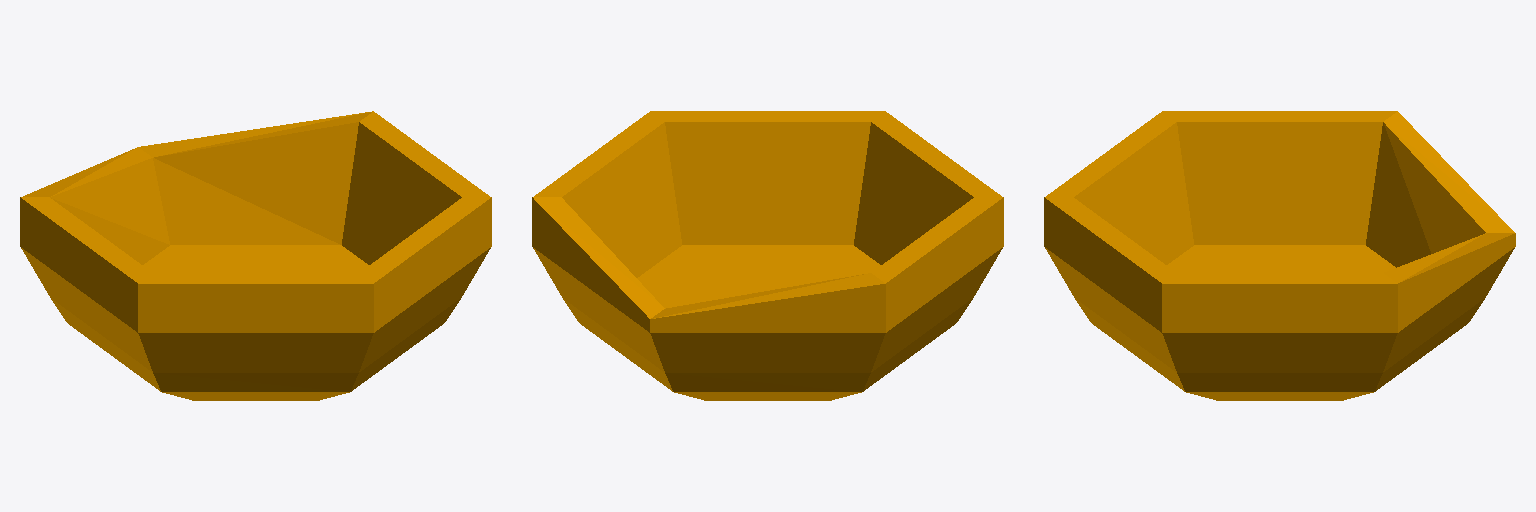
URDF robot description (smallbowl):
<?xml version="1.0"?>
<robot name="smallbowl">
  <link name="smallbowl">
    <inertial>
        <origin rpy="0 0 0" xyz="0 0 0"/>
        <mass value="0.05"/>
        <inertia ixx="0.5e-3" ixy="0" ixz="0" iyy="0.5e-3" iyz="0" izz="0.9e-3"/>
    </inertial>
    <visual>
      <geometry>
        <mesh filename="smallBowl.obj"/>
      </geometry>
    </visual>
    <collision>
      <geometry>
        <mesh filename="smallBowlCollider.obj"/>
      </geometry>
      <surface>
           <bounce restitution_coefficient = "0.01"/>
      </surface>
    </collision>
  </link>
</robot>

--- Facts derived from the render (not from the file) ---
Views: 3 orthographic renders of the robot side by side, from view 1: azimuth 30°, elevation 25°; view 2: azimuth 150°, elevation 25°; view 3: azimuth 270°, elevation 25°.
Model smallbowl with 1 links and 0 joints (none), rooted at smallbowl, posed all joints at 0.
Visible links, largest first — view 1: smallbowl; view 2: smallbowl; view 3: smallbowl.
Boxes of the visible links, <box> form: smallbowl: <box>20,111,491,400</box>; smallbowl: <box>532,111,1003,400</box>; smallbowl: <box>1044,111,1515,400</box>.
Bounding box of the posed robot: 0.1255 × 0.145 × 0.0535 m (x, y, z).
Meshes: 1 distinct files referenced, 1 mesh visuals loaded (1 OBJ).
